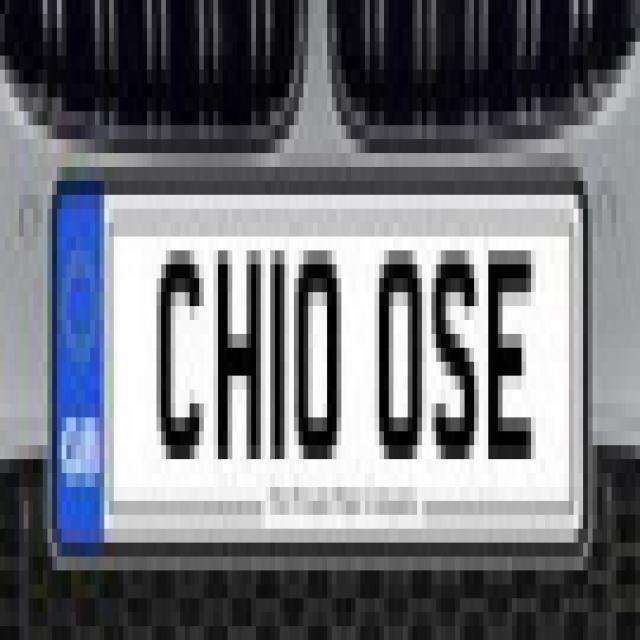0: (288, 220, 350, 480), (374, 218, 428, 486)
1: (268, 224, 287, 474)
C: (151, 222, 208, 484)
E: (480, 203, 542, 477)
H: (212, 226, 266, 486)
S: (430, 224, 482, 483)
